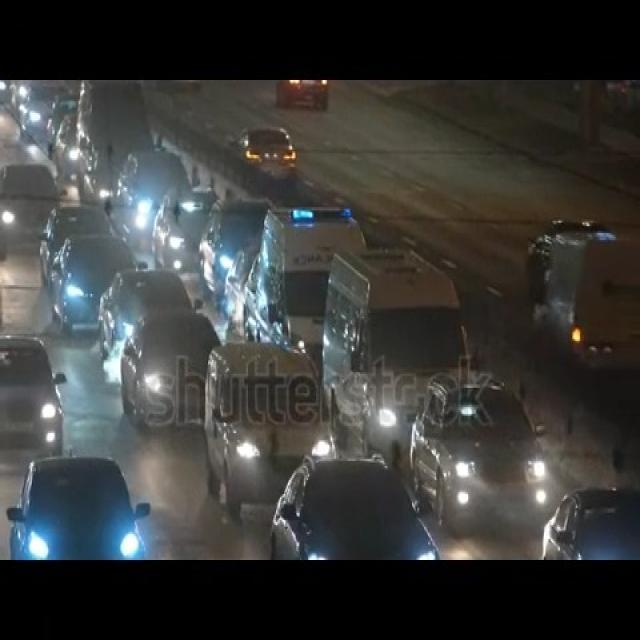emergency: (243, 201, 364, 371)
